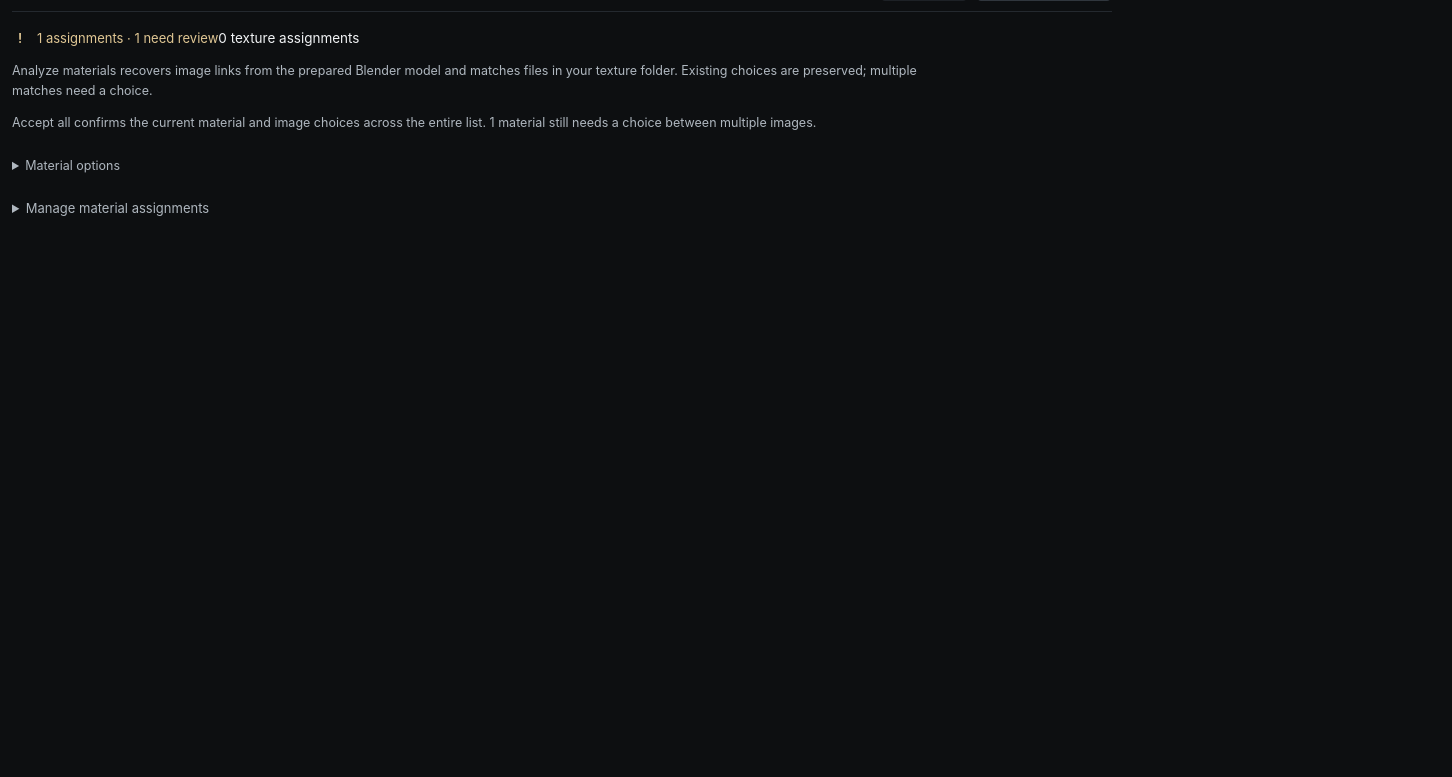
Test: Texture assignment visibility › requires a choice for ambiguous images and keeps choosing no image explicit
This screenshot has width=1452, height=777.
Click the heading "Manage material assignments" at (111, 212), box [12,198,209,224]
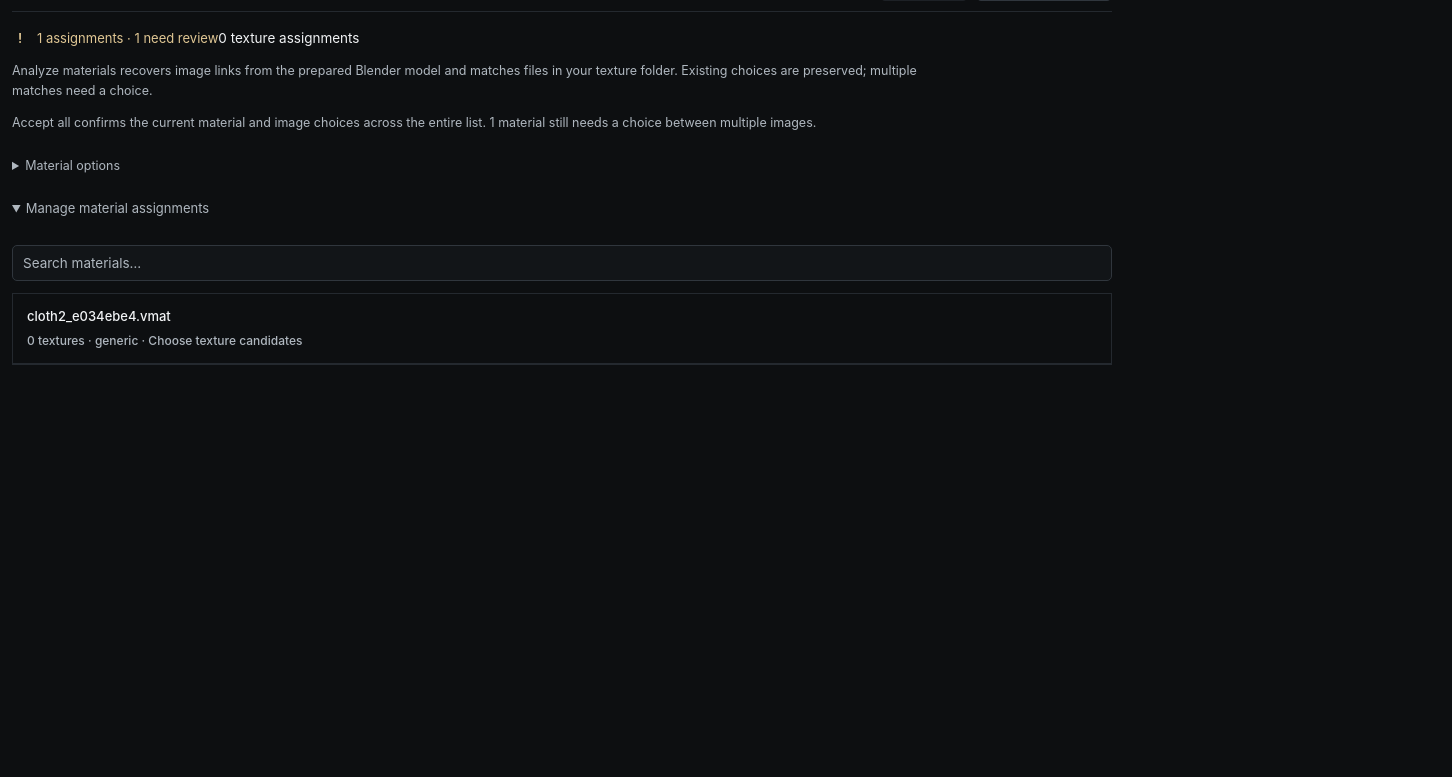
Click the button "cloth2_e034ebe4.vmat" at (99, 316), box [13,294,1111,364]
(page scrolled)
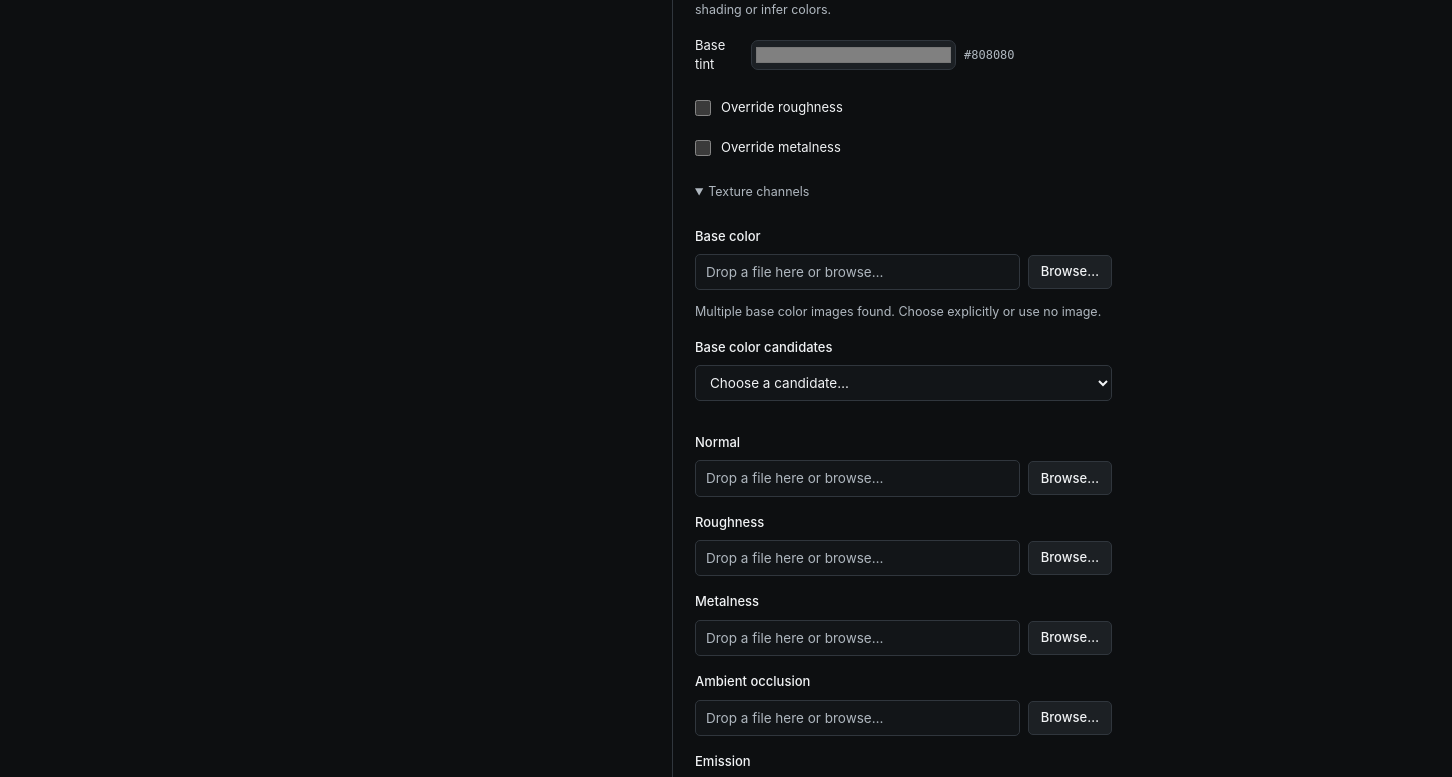
Select "C:\\tex\\iris_02_D.png" in the dropdown labelled "Base color candidates" at (904, 383), box [695,365,1112,401]
(page scrolled)
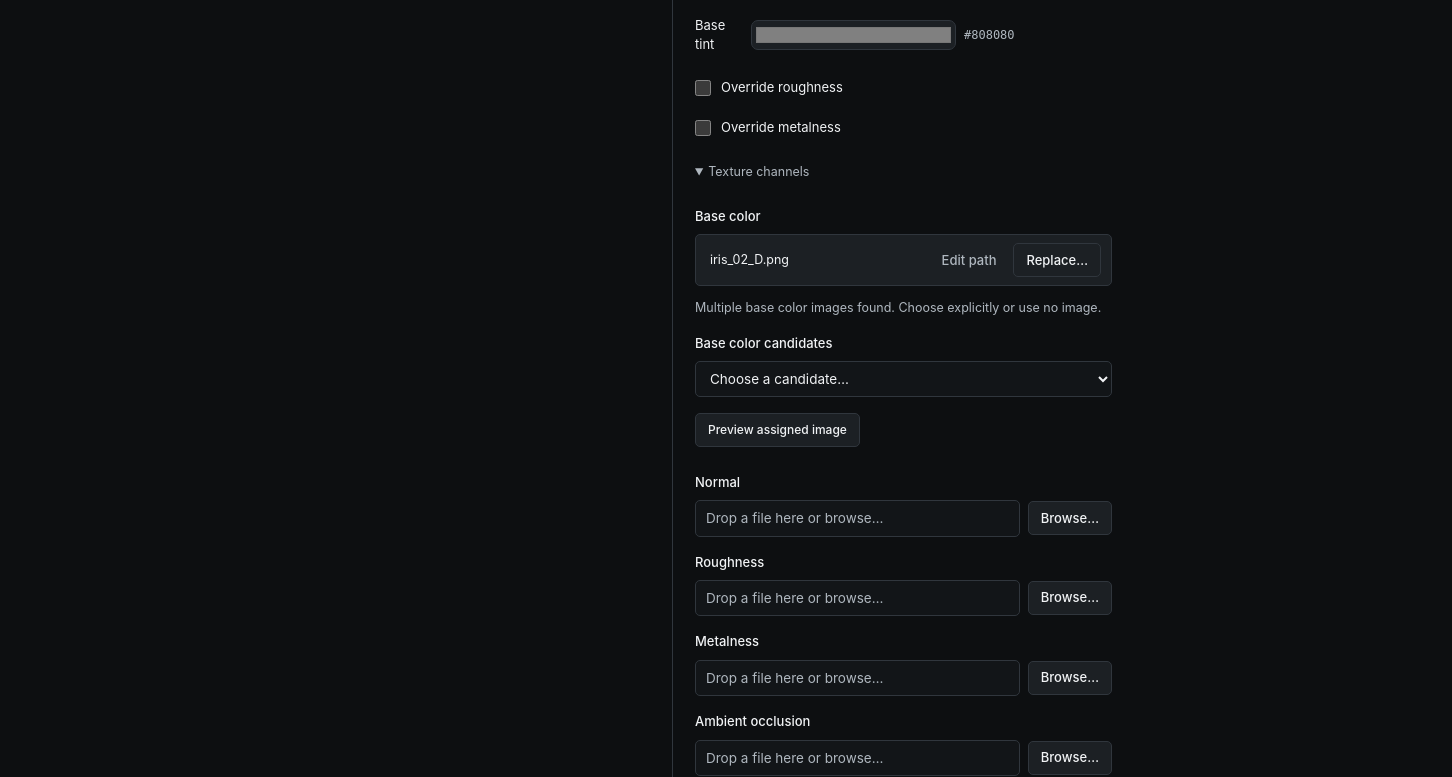
Select "Use no image" in the dropdown labelled "Base color candidates" at (904, 379), box [695,361,1112,397]
(page scrolled)
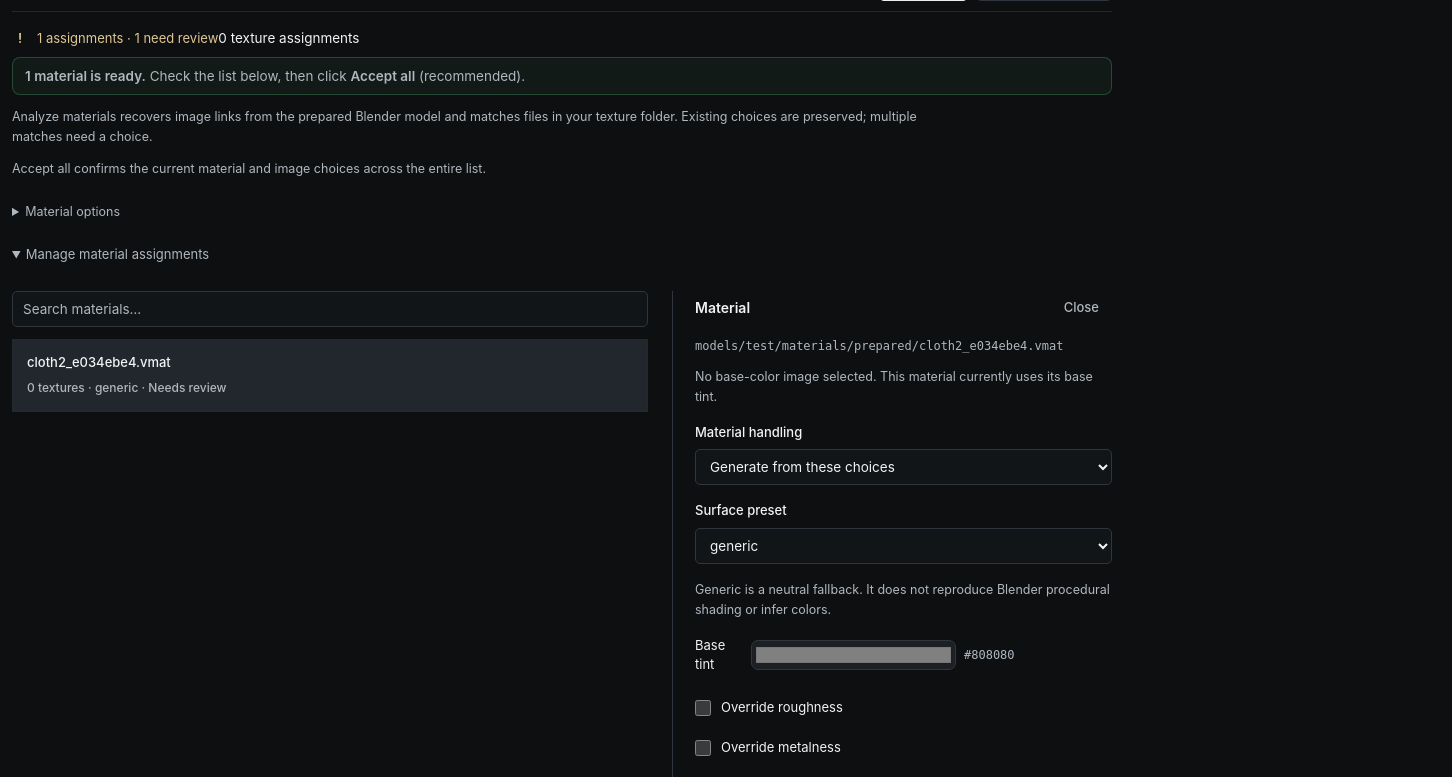
Expected: the text "0 texture assignments" is shown, [218,30,360,46]
